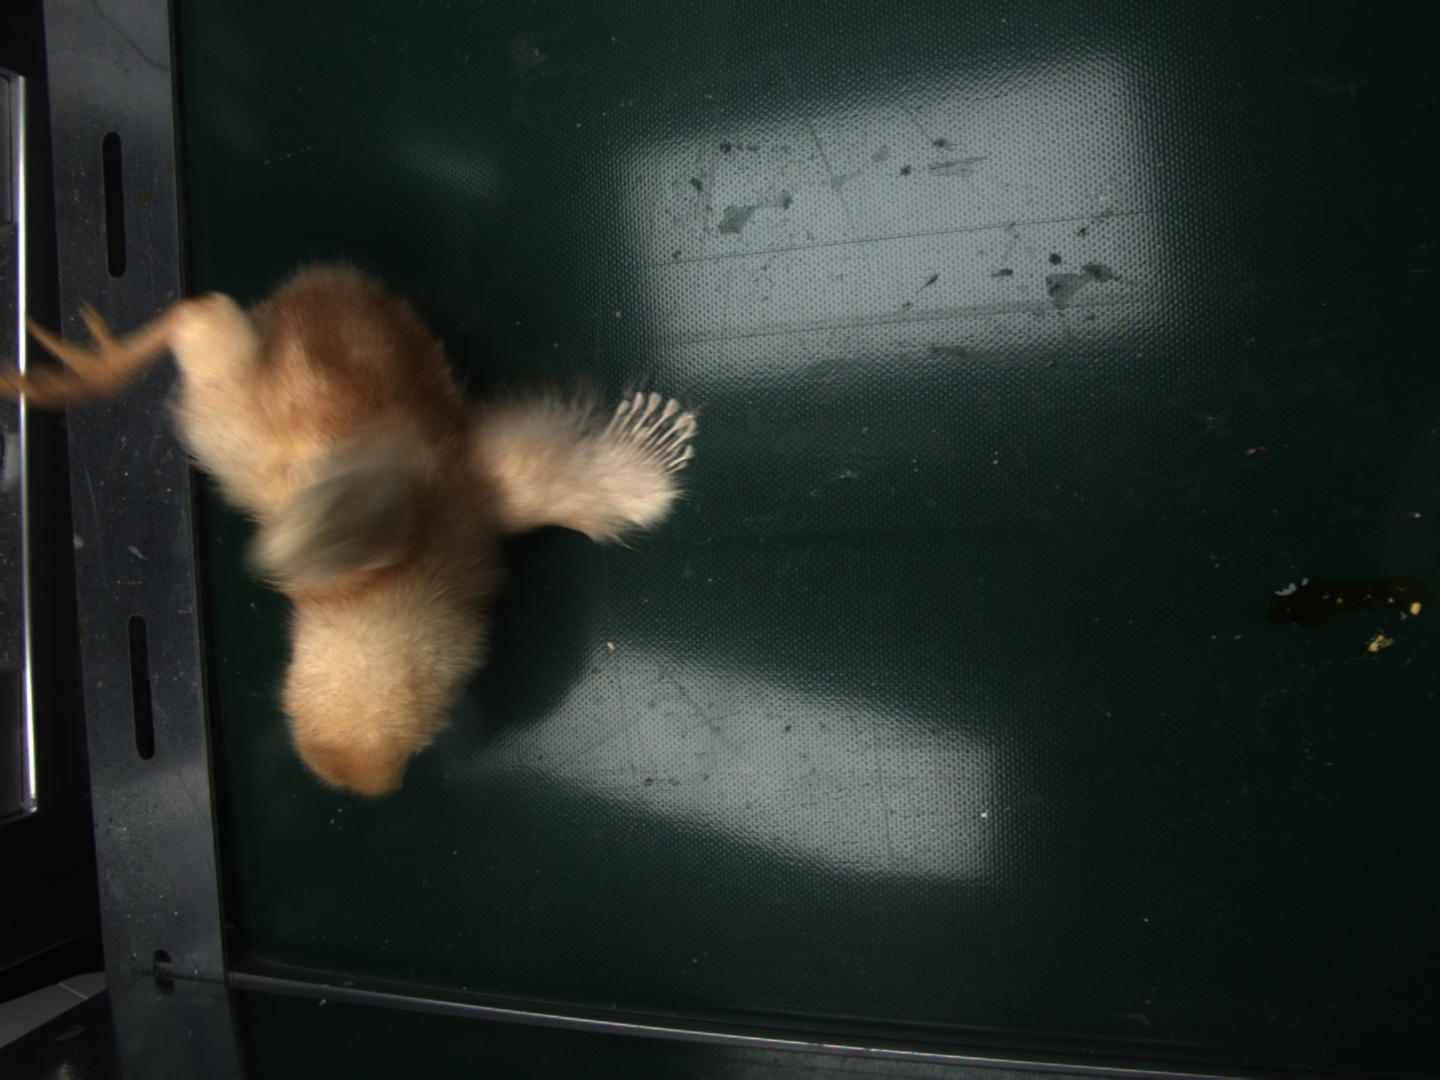female: (609, 393, 696, 476)
